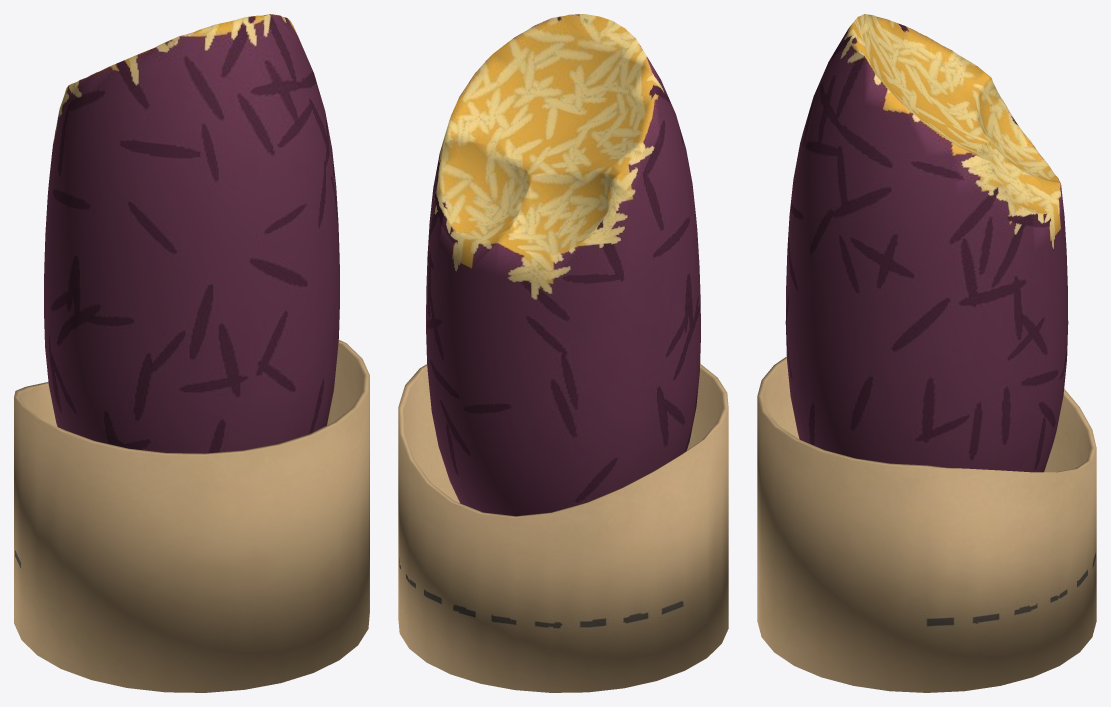
The model's file is yakiimo_b1.glb.
The picture shows the model from 3 angles, left to right: view 1: azimuth 30°, elevation 25°; view 2: azimuth 150°, elevation 25°; view 3: azimuth 270°, elevation 25°; orthographic projection. The views are drawn at different scales.
Parts seen in each view (by area): view 1: prop_yakiimo_b1_felt; view 2: prop_yakiimo_b1_felt; view 3: prop_yakiimo_b1_felt.
Part boxes in pixels (bbox=[...]): prop_yakiimo_b1_felt: bbox=[14, 14, 369, 692]; prop_yakiimo_b1_felt: bbox=[398, 14, 728, 692]; prop_yakiimo_b1_felt: bbox=[757, 14, 1096, 692].
Bounding box in the file's own units: 0.1065 × 0.2057 × 0.1065.
Materials: 1 (1 with a texture image).
